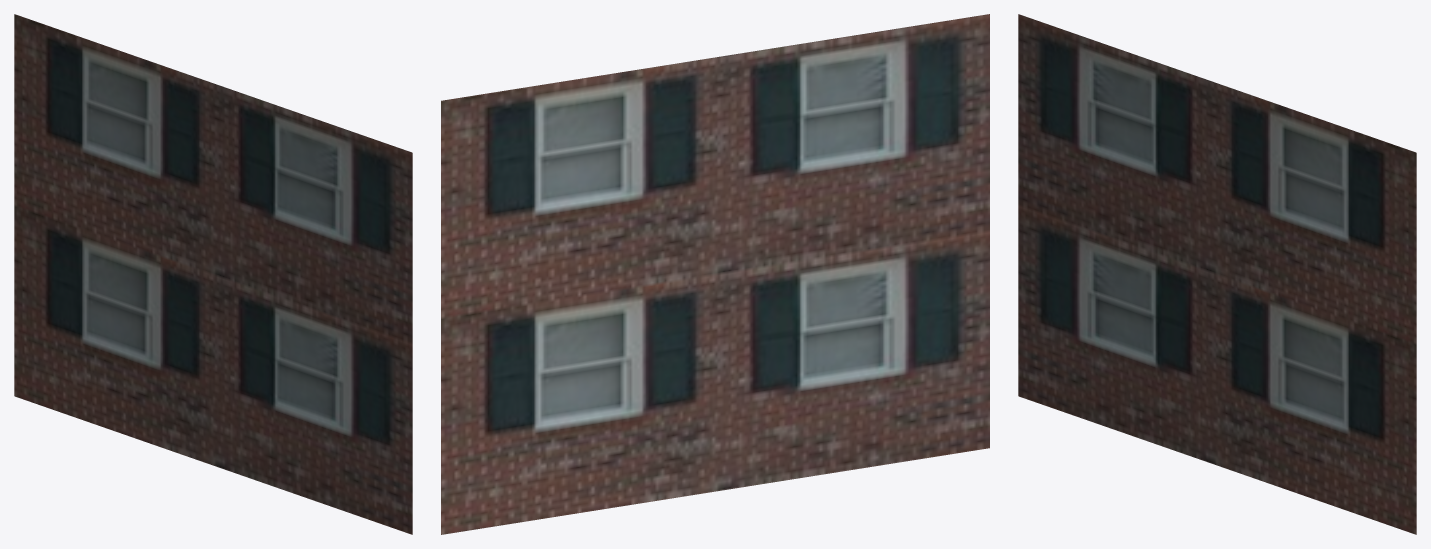
The model's file is ResTex__2016.fbx.
The picture shows the model from 3 angles, left to right: view 1: azimuth 90°, elevation 25°; view 2: azimuth 150°, elevation 25°; view 3: azimuth 270°, elevation 25°; orthographic projection. The views are drawn at different scales.
Visible parts, largest first — view 1: CityEngineMaterial_14_m; view 2: CityEngineMaterial_14_m; view 3: CityEngineMaterial_14_m.
Boxes of the visible parts, bbox=[...] form: CityEngineMaterial_14_m: bbox=[14, 14, 412, 534]; CityEngineMaterial_14_m: bbox=[441, 14, 989, 534]; CityEngineMaterial_14_m: bbox=[1018, 14, 1416, 534].
Bounding box in the file's own units: 4.67 × 6 × 5.67.
Materials: 1 (1 with a texture image).
